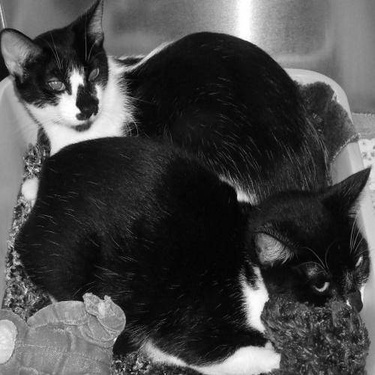cat: (3, 133, 371, 362), (1, 6, 361, 123)
